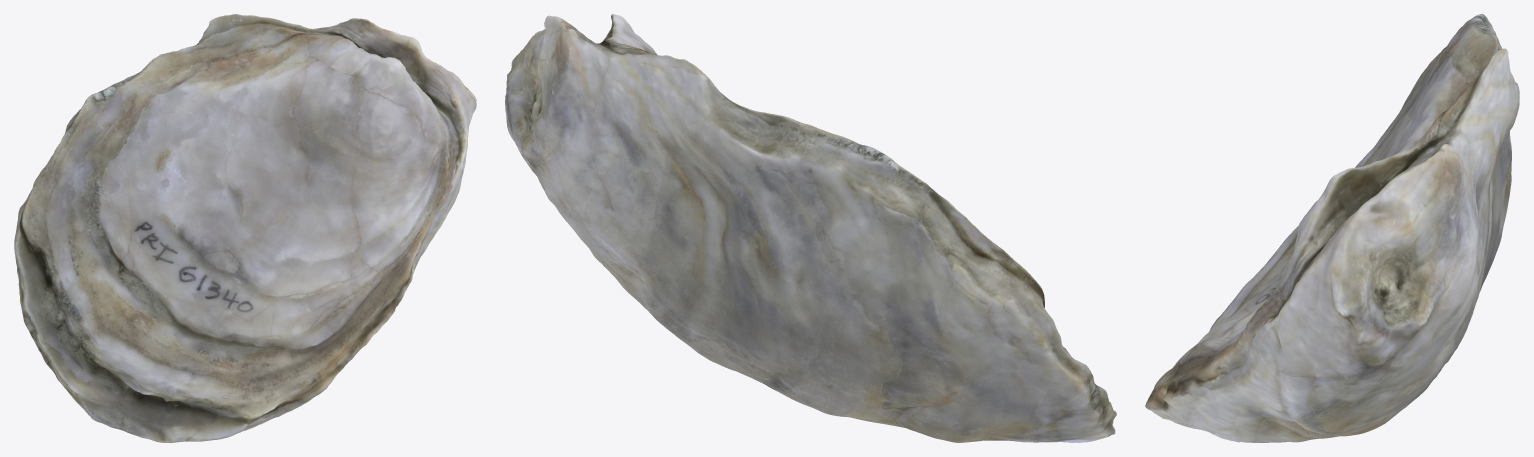
3 renders of one model, left to right at view 1: azimuth 30°, elevation 25°; view 2: azimuth 150°, elevation 25°; view 3: azimuth 270°, elevation 25°, orthographic. The views are drawn at different scales.
Parts seen in each view (by area): view 1: Object_2, Object_3, Object_4, Object_5; view 2: Object_3, Object_2, Object_4, Object_5; view 3: Object_4, Object_5, Object_3, Object_2.
Part boxes in pixels (x1,y1,x2,y2): Object_2: (14, 41, 393, 441); Object_3: (14, 14, 370, 442); Object_4: (107, 14, 476, 360); Object_5: (95, 18, 476, 384); Object_3: (557, 44, 1072, 442); Object_2: (735, 103, 1116, 442); Object_4: (505, 14, 891, 393); Object_5: (505, 15, 894, 403); Object_4: (1163, 33, 1518, 442); Object_5: (1151, 14, 1519, 442); Object_3: (1145, 14, 1519, 424); Object_2: (1149, 16, 1497, 442).
Size of the model in its own units: 2.41 by 1.64 by 1.29.
1 material, 1 textured.
